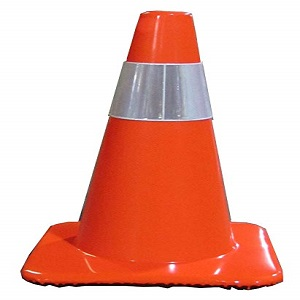traffic cone: (21, 11, 283, 289)
